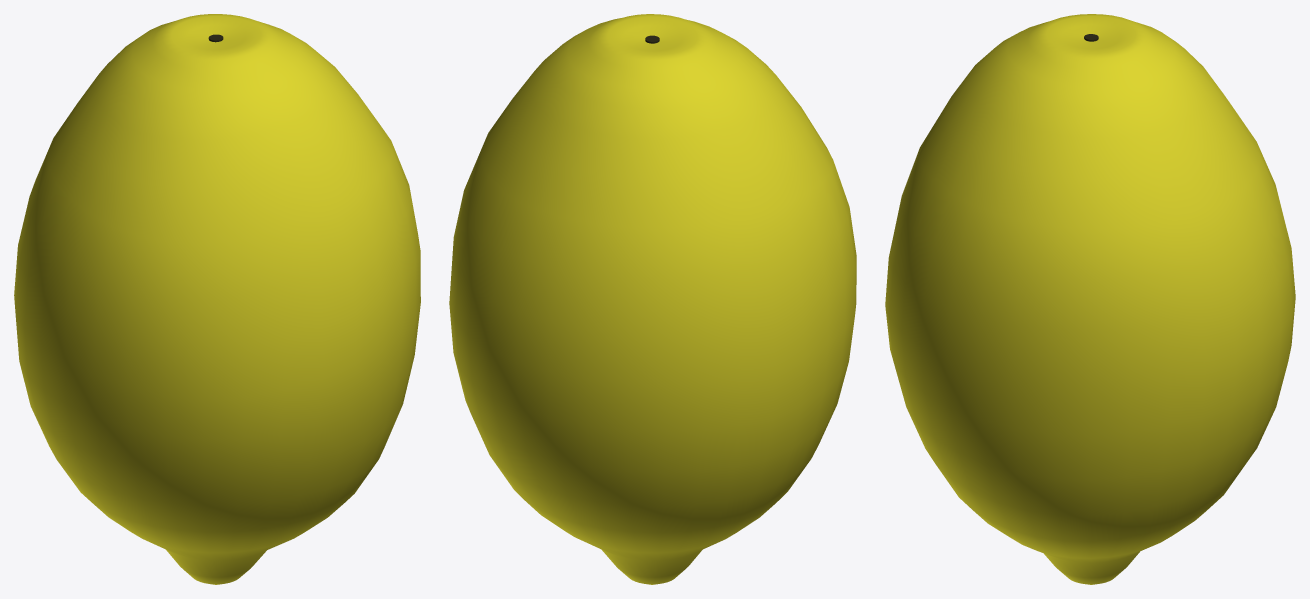
Rendered from cytryna.fbx.
3 renders of one model, left to right at view 1: azimuth 30°, elevation 25°; view 2: azimuth 150°, elevation 25°; view 3: azimuth 270°, elevation 25°, orthographic.
Parts seen in each view (by area): view 1: Sphere; view 2: Sphere; view 3: Sphere.
Part boxes in pixels (box(x1,y1,x2,y2)): Sphere: box(14, 14, 420, 584); Sphere: box(449, 14, 856, 584); Sphere: box(885, 14, 1295, 584).
Size of the model in its own units: 12.69 by 18.95 by 12.8.
